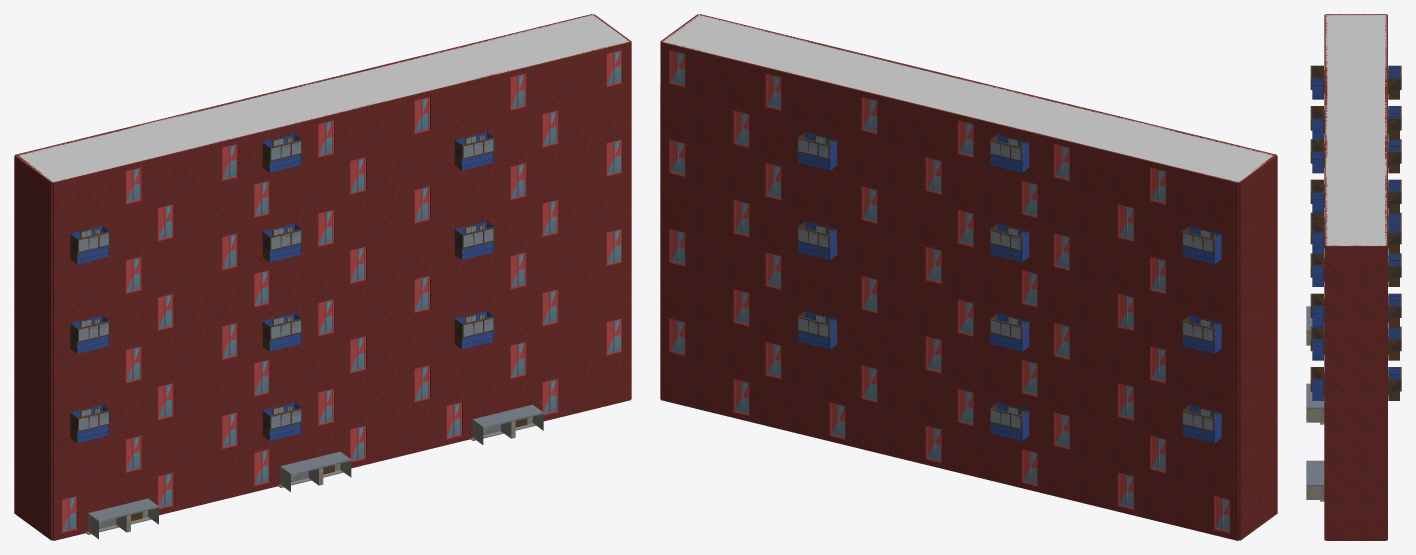
The model's file is house.obj.
3 views of the same model, side by side, from view 1: azimuth 30°, elevation 25°; view 2: azimuth 150°, elevation 25°; view 3: azimuth 270°, elevation 25° (orthographic). The views are drawn at different scales.
Visible parts, largest first — view 1: geometry_0, geometry_188, geometry_189, geometry_187, geometry_174, geometry_169, geometry_178, geometry_161, geometry_173, geometry_157, geometry_162, geometry_170 (+162 smaller); view 2: geometry_0, geometry_362, geometry_367, geometry_383, geometry_366, geometry_374, geometry_378, geometry_379, geometry_382, geometry_375, geometry_236, geometry_349 (+159 smaller); view 3: geometry_0, geometry_426, geometry_414, geometry_416, geometry_424, geometry_427, geometry_412, geometry_418, geometry_420, geometry_422, geometry_415, geometry_417 (+26 smaller).
Boxes of the visible parts, x1,y1,x2,y2 form: geometry_0: (18,15,629,182); geometry_188: (278,451,351,491); geometry_189: (470,404,543,444); geometry_187: (86,498,158,539); geometry_174: (469,72,502,125); geometry_169: (342,104,374,157); geometry_178: (566,49,598,102); geometry_161: (149,151,182,204); geometry_173: (438,81,470,133); geometry_157: (53,175,85,227); geometry_162: (181,143,214,196); geometry_170: (373,96,406,149); geometry_0: (662,14,1273,182); geometry_362: (1206,175,1238,227); geometry_367: (1077,143,1110,196); geometry_383: (693,49,725,102); geometry_366: (1109,151,1142,204); geometry_374: (917,104,949,157); geometry_378: (821,81,853,133); geometry_379: (789,73,821,125); geometry_382: (725,57,757,110); geometry_375: (885,96,917,149); geometry_236: (917,373,949,425); geometry_349: (981,165,1013,217); geometry_0: (1325,14,1386,245); geometry_426: (1325,245,1356,283); geometry_414: (1325,467,1356,504); geometry_416: (1325,430,1356,467); geometry_424: (1325,283,1356,320); geometry_427: (1356,245,1386,283); geometry_412: (1325,504,1356,540); geometry_418: (1325,394,1356,430); geometry_420: (1325,357,1356,393); geometry_422: (1325,320,1356,356); geometry_415: (1356,467,1386,504); geometry_417: (1356,430,1386,467).
Size of the model in its own units: 54.3 by 32 by 9.38.
